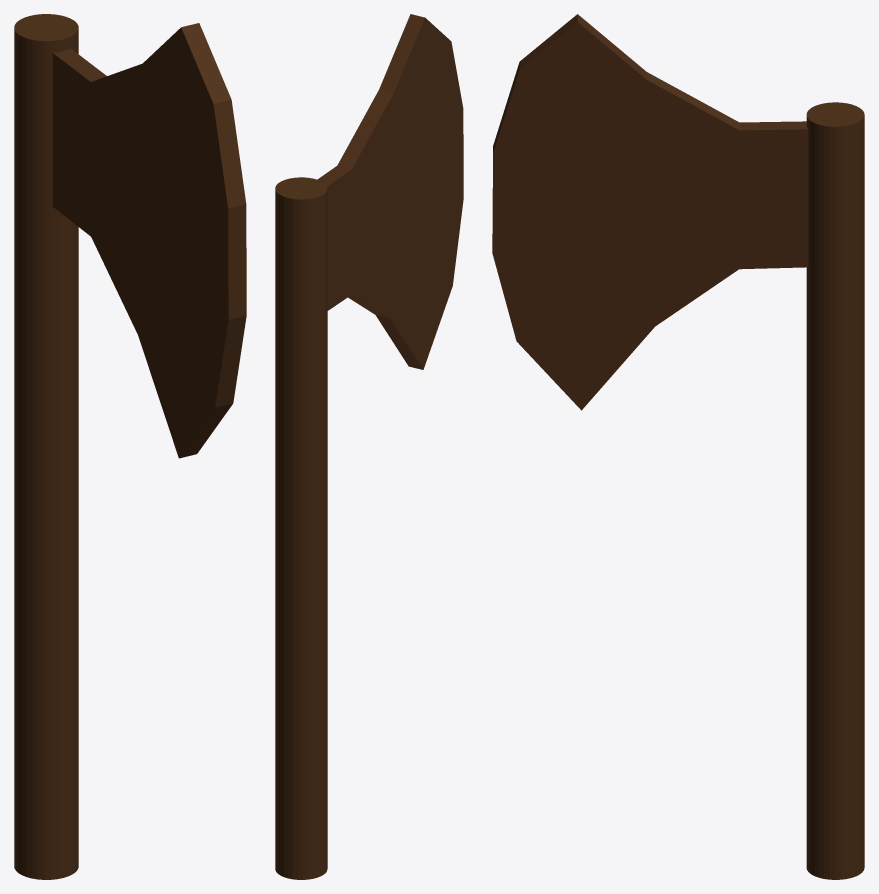
File: Wood Axe.fbx
3 renders of one model, left to right at view 1: azimuth 30°, elevation 25°; view 2: azimuth 150°, elevation 25°; view 3: azimuth 270°, elevation 25°, orthographic. The views are drawn at different scales.
Visible parts, largest first — view 1: Cylinder; view 2: Cylinder; view 3: Cylinder.
Part boxes in pixels (x1,y1,x2,y2): Cylinder: [14, 14, 246, 879]; Cylinder: [275, 14, 463, 879]; Cylinder: [492, 14, 864, 879].
Bounding box in the file's own units: 3.49 × 56.42 × 22.39.
